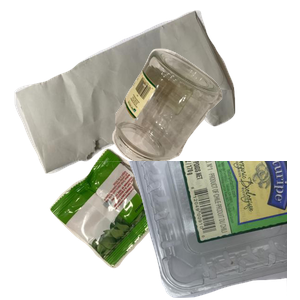glass: (110, 46, 300, 205)
paper: (12, 10, 240, 176)
plastic: (60, 161, 300, 300)
trash: (47, 146, 220, 300)
